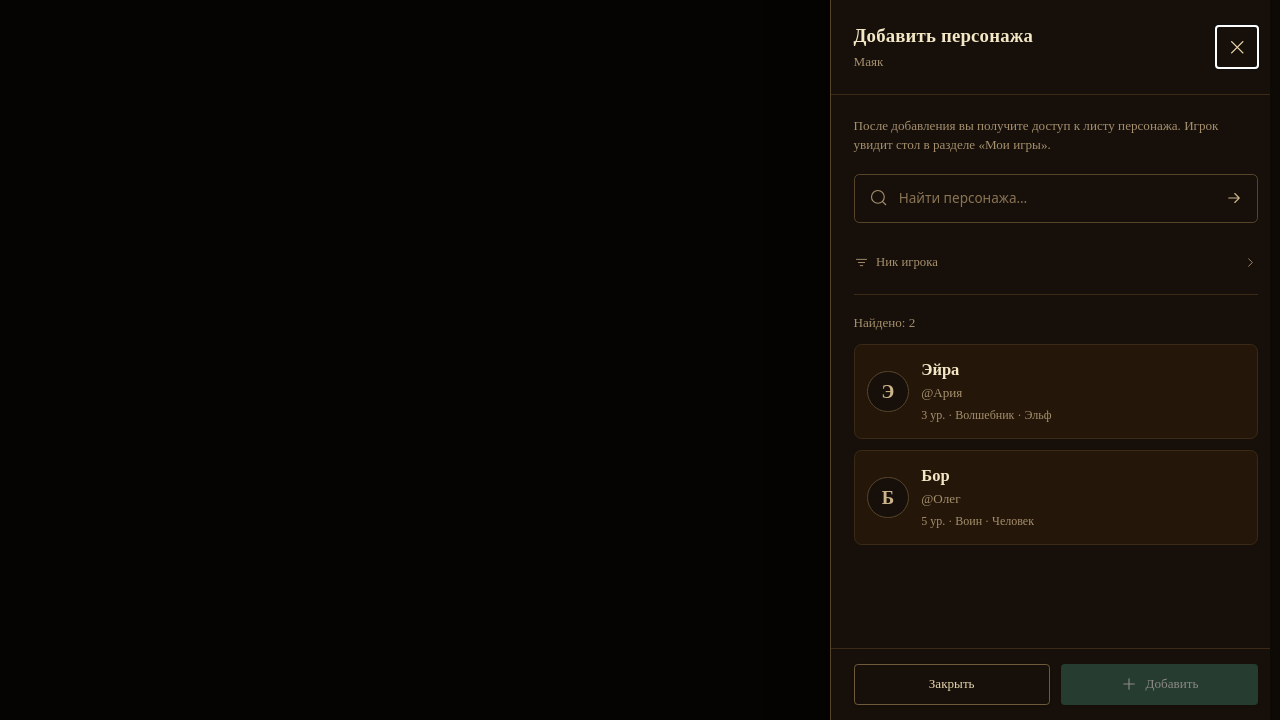
Test: character selection for a table › selects a card without writing and adds only the selected character from the footer
Expected: the button "Добавить" is disabled, [1061,664,1258,705]
Expected: the text "@Ария" is shown, [921,385,962,400]
Click the button "Э Эйра @Ария 3 ур. · Волшебник · Эльф": {"x": 888, "y": 391} [854,344,1258,439]
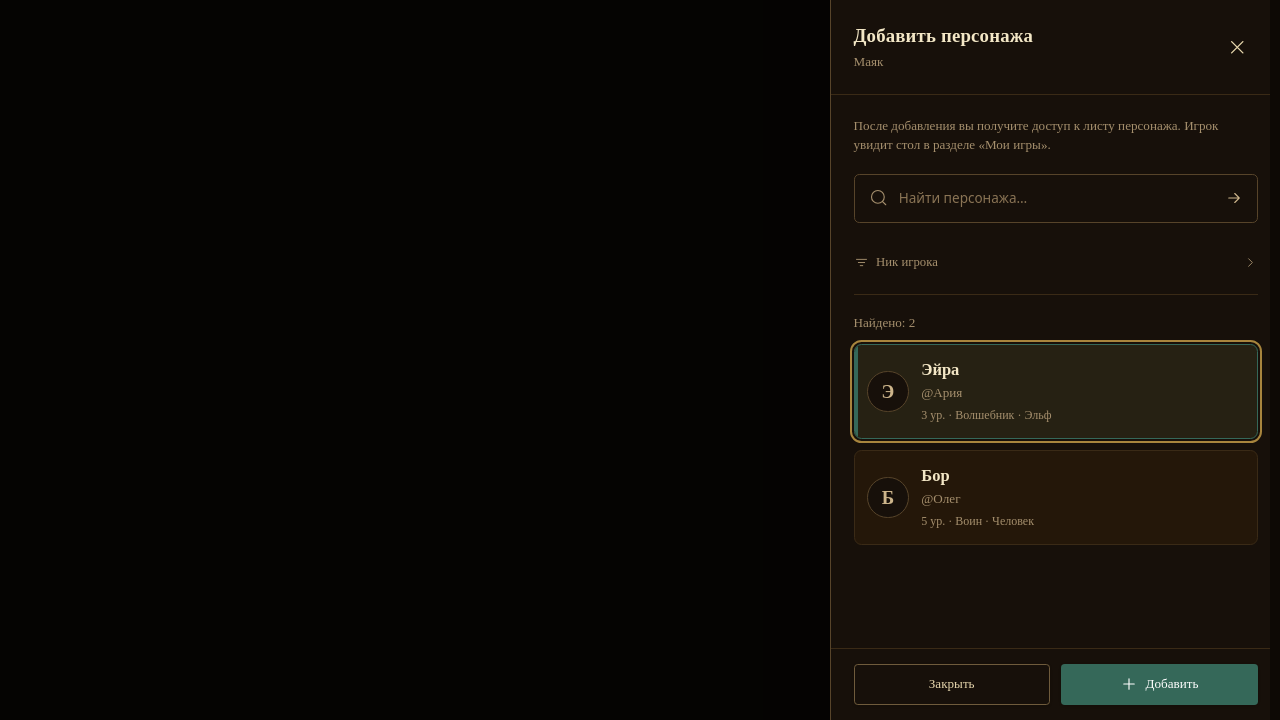
Expected: the button "Э Эйра @Ария 3 ур. · Волшебник · Эльф" is pressed, [854,344,1258,439]
Click the button "Б Бор @Олег 5 ур. · Воин · Человек": {"x": 888, "y": 497} [854,450,1258,545]
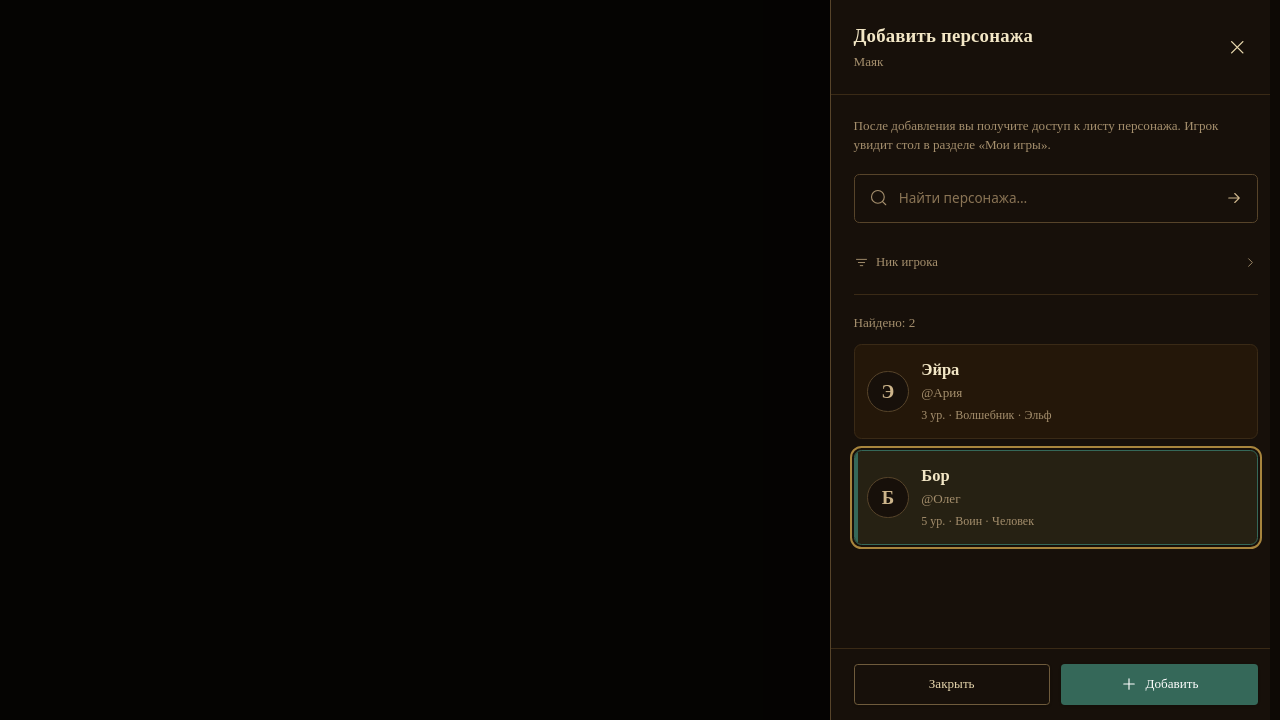
Click the button "Добавить": {"x": 1159, "y": 684} [1061,664,1258,705]
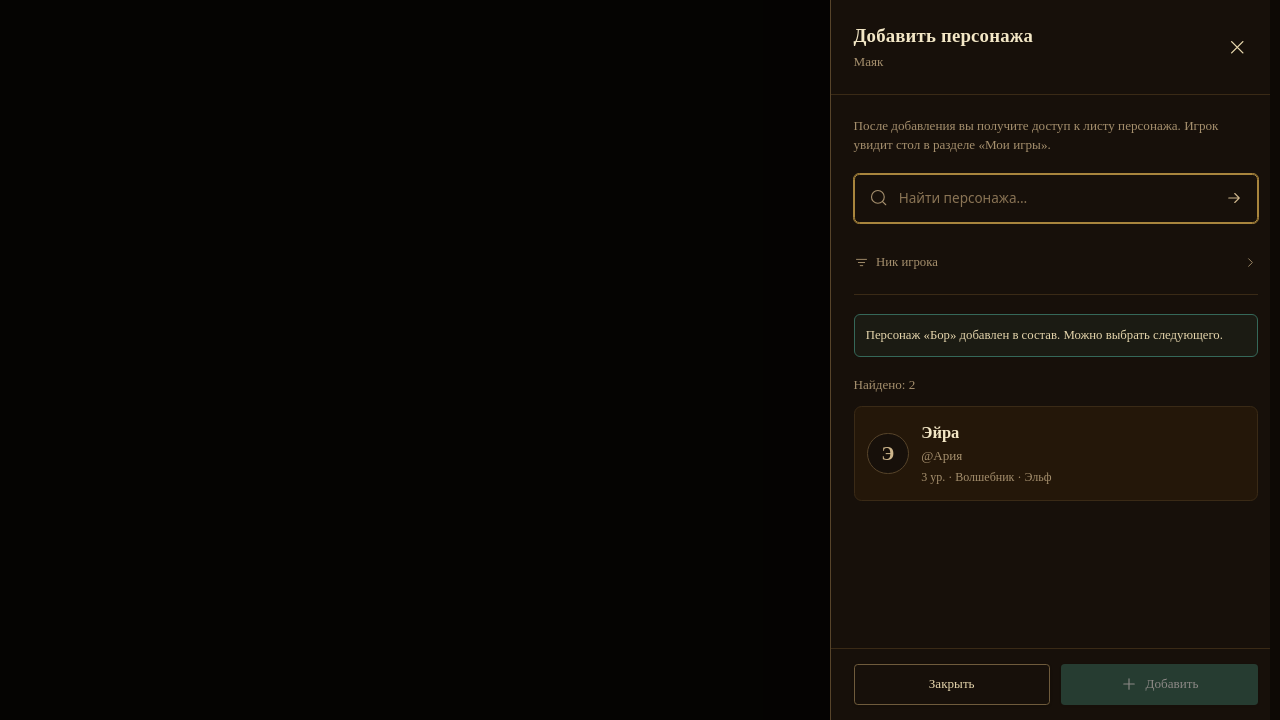
Expected: the dialog is shown, [830,0,1279,719]
Expected: the button "Добавить" is disabled, [1061,664,1258,705]
Expected: the message shows "Персонаж «Бор» добавлен в состав", [866,328,1223,342]
